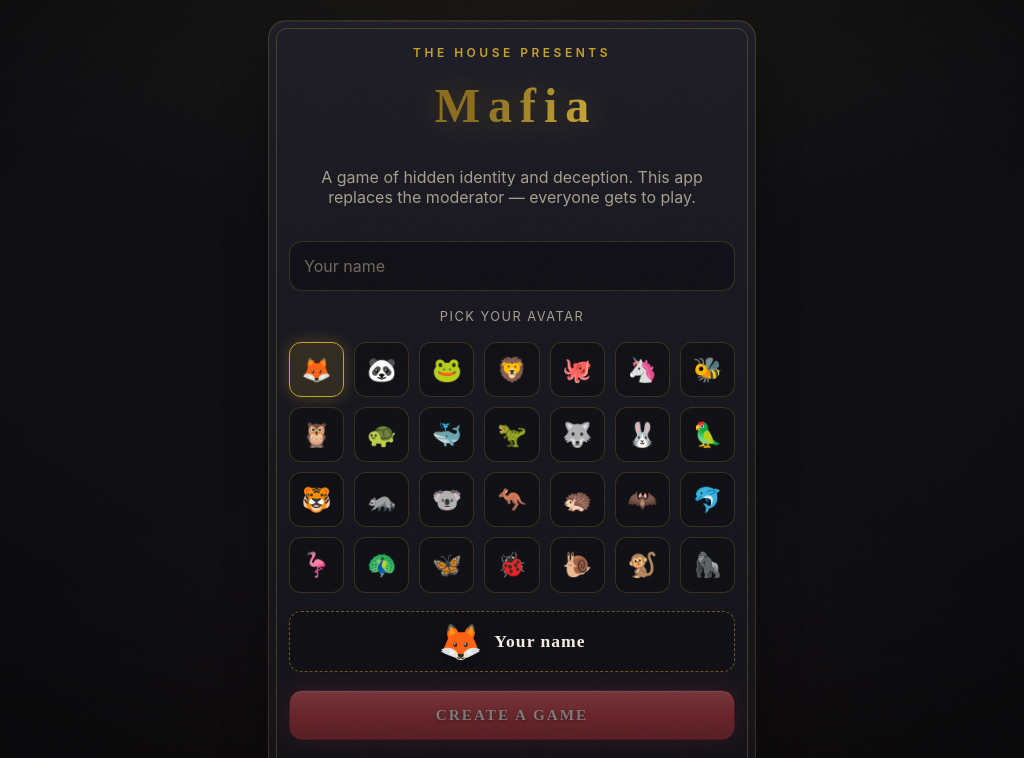
Test: Home › disables Create while a join code is being entered
The width and height of the screenshot is (1024, 758).
Type "Sam" into the field with placeholder "Your name" at (512, 266), box [289, 241, 735, 291]
(page scrolled)
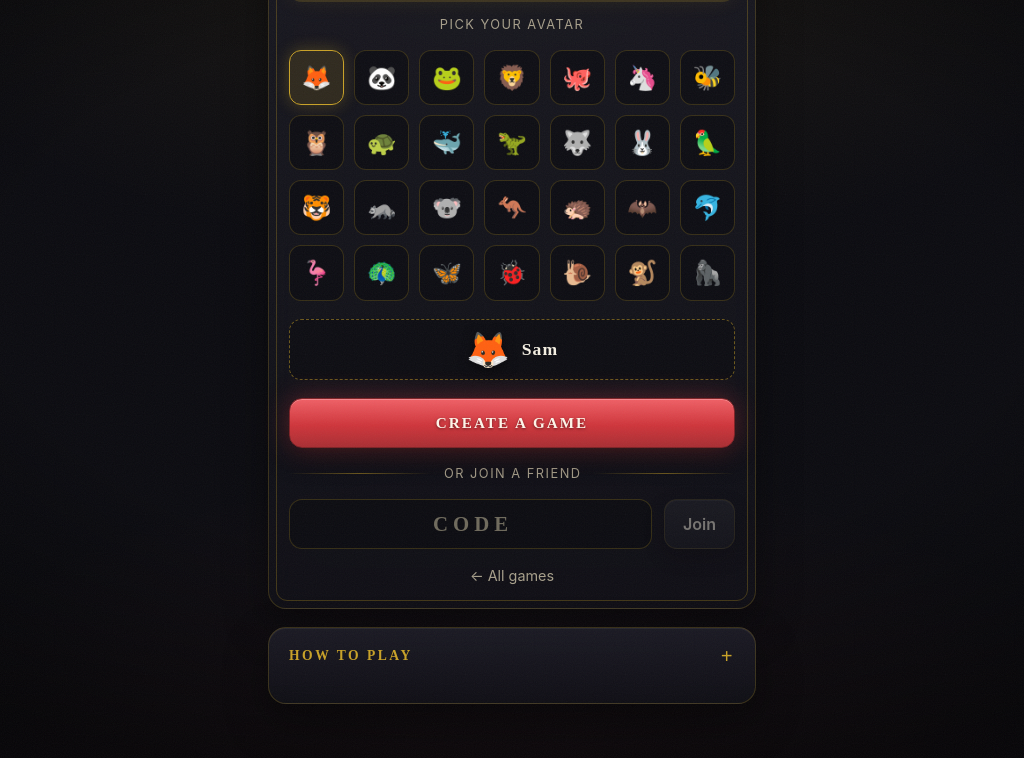
expect the button "Create a game" is enabled: met, box [289, 398, 735, 448]
Type "ABC123" into the field with placeholder "CODE" at (470, 524), box [289, 499, 652, 549]
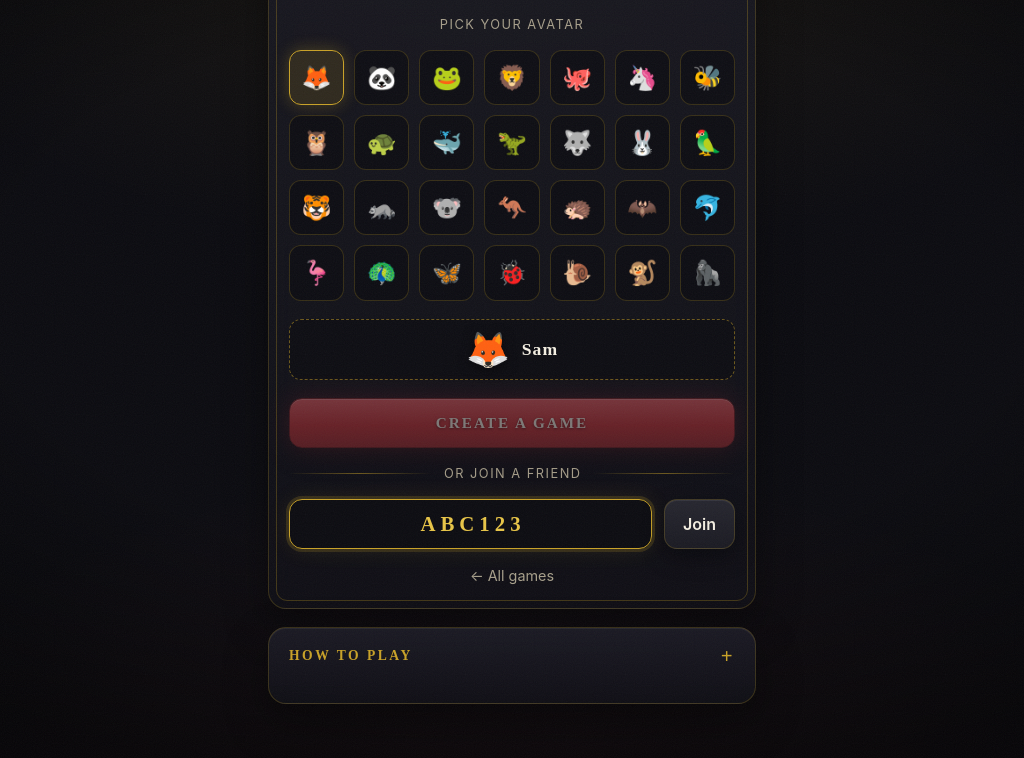
expect the button "Create a game" is disabled: met, box [289, 398, 735, 448]
Clear the field with placeholder "CODE" at (470, 524), box [289, 499, 652, 549]
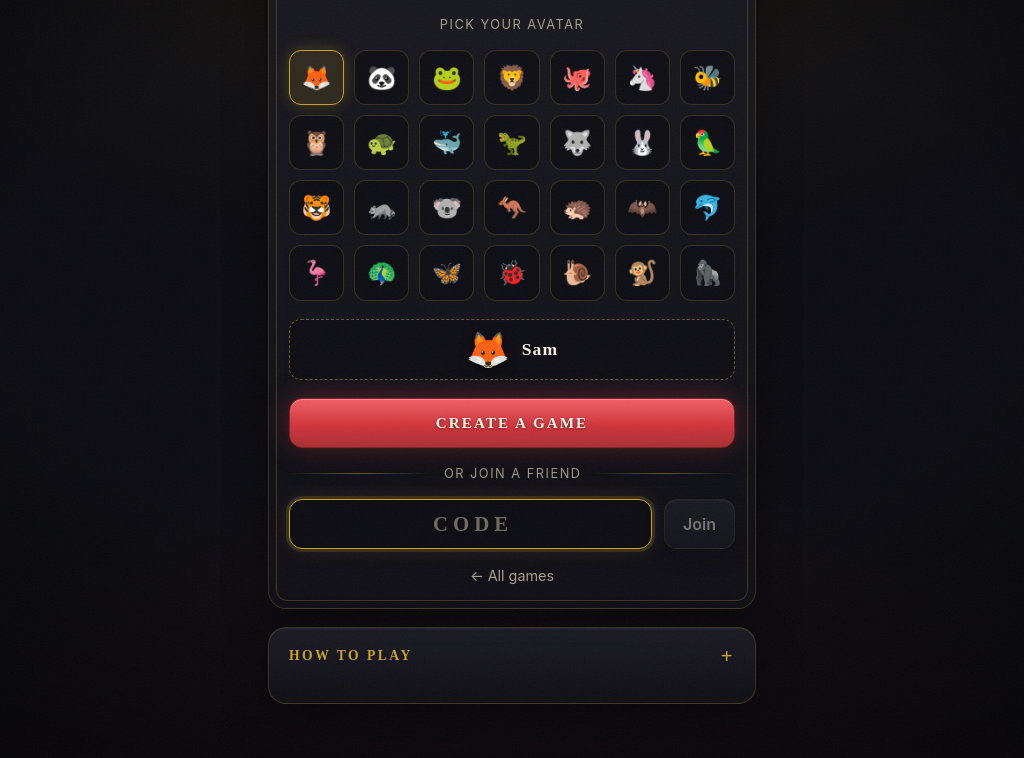
expect the button "Create a game" is enabled: met, box [289, 398, 735, 448]
